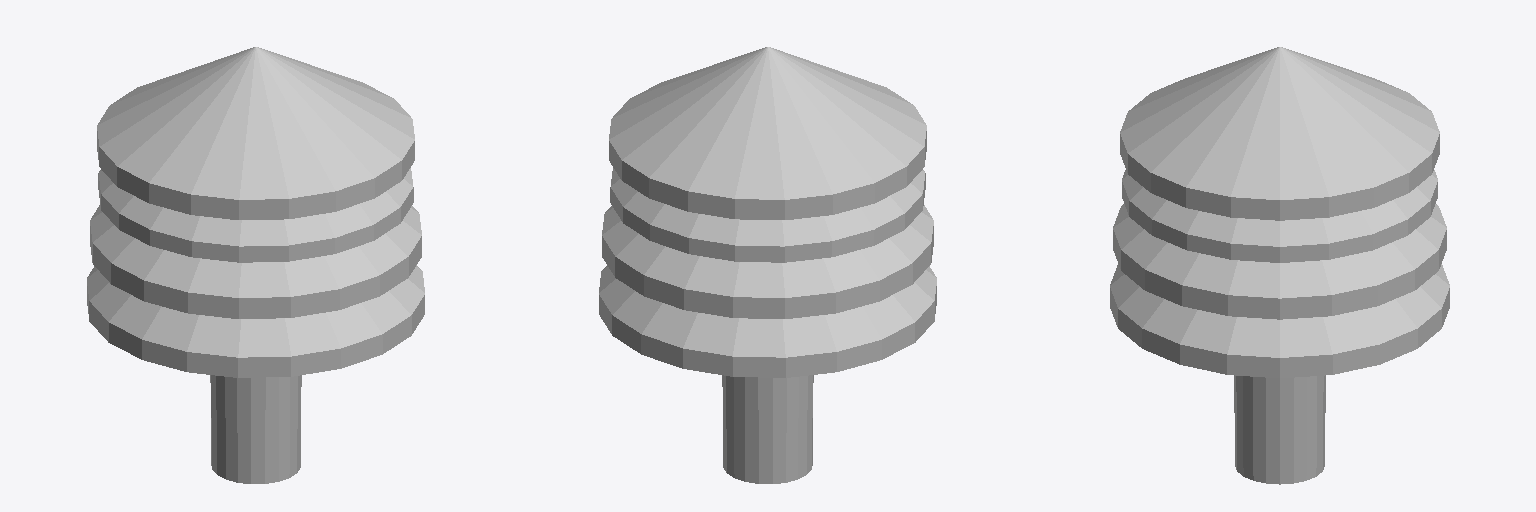
Rendered from Tree UVed OBJ.obj.
3 views of the same model, side by side, from view 1: azimuth 30°, elevation 25°; view 2: azimuth 150°, elevation 25°; view 3: azimuth 270°, elevation 25° (orthographic).
Parts seen in each view (by area): view 1: Tree:pCylinder1; view 2: Tree:pCylinder1; view 3: Tree:pCylinder1.
Part boxes in pixels (left/top/right/bottom): Tree:pCylinder1: left=87, top=47, right=424, bottom=483; Tree:pCylinder1: left=599, top=47, right=936, bottom=483; Tree:pCylinder1: left=1110, top=47, right=1449, bottom=484.
Size of the model in its own units: 177 by 240 by 177.